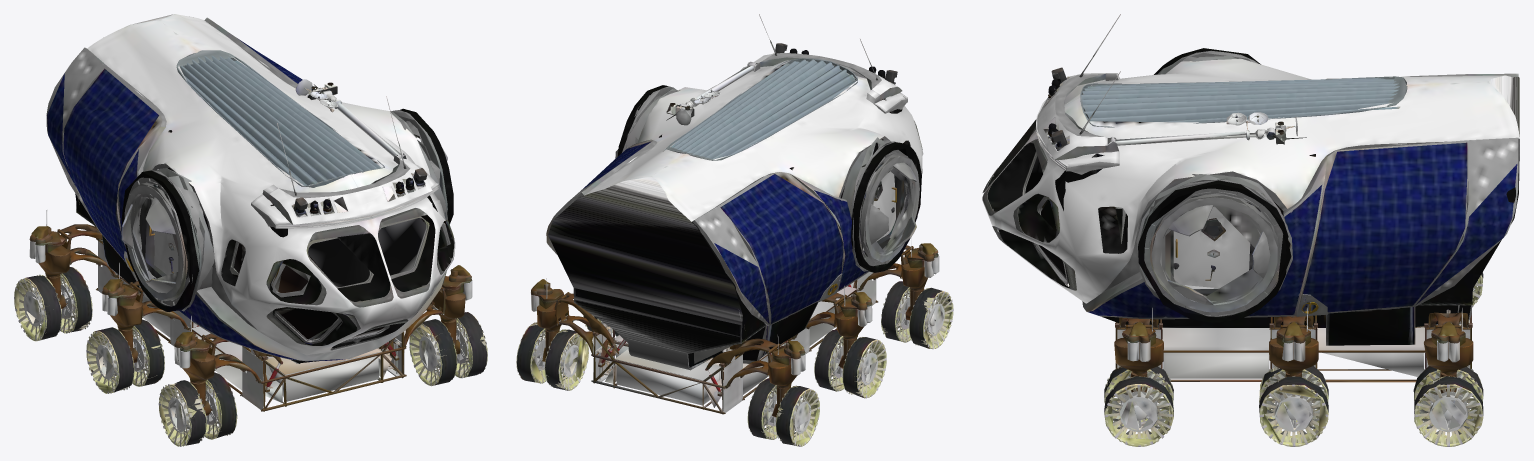
File: space-exploration-vehicle.glb
3 renders of one model, left to right at view 1: azimuth 30°, elevation 25°; view 2: azimuth 150°, elevation 25°; view 3: azimuth 270°, elevation 25°, orthographic. The views are drawn at different scales.
Visible parts, largest first — view 1: MMSEV; view 2: MMSEV; view 3: MMSEV.
Part boxes in pixels (x1,y1,x2,y2): MMSEV: [14, 14, 487, 446]; MMSEV: [516, 14, 953, 446]; MMSEV: [982, 14, 1519, 446].
Bounding box in the file's own units: 4.04 × 3.97 × 5.91.
Materials: 1 (1 with a texture image).
